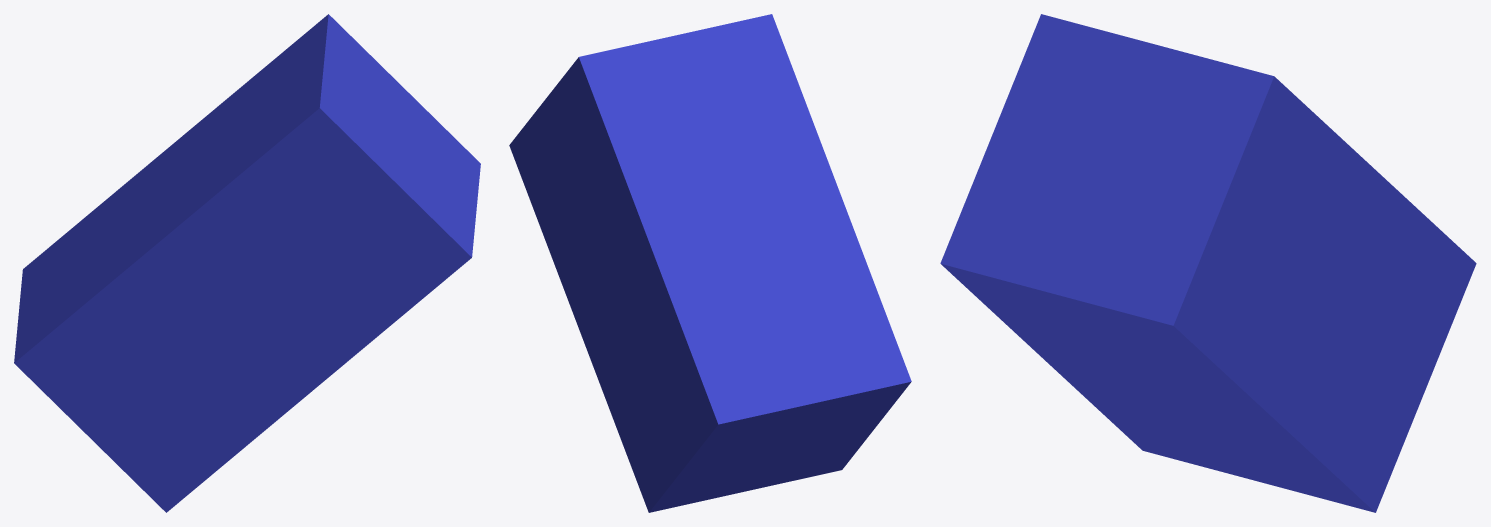
Rendered from SK_Beard_Rig_A_001.fbx.
3 renders of one model, left to right at view 1: azimuth 30°, elevation 25°; view 2: azimuth 150°, elevation 25°; view 3: azimuth 270°, elevation 25°, orthographic. The views are drawn at different scales.
Parts seen in each view (by area): view 1: root; view 2: root; view 3: root.
Boxes of the visible parts, left/top/right/bottom form: root: left=14, top=14, right=480, bottom=512; root: left=509, top=14, right=911, bottom=512; root: left=940, top=14, right=1476, bottom=512.
Bounding box in the file's own units: 0.4637 × 0.4116 × 0.3965.
